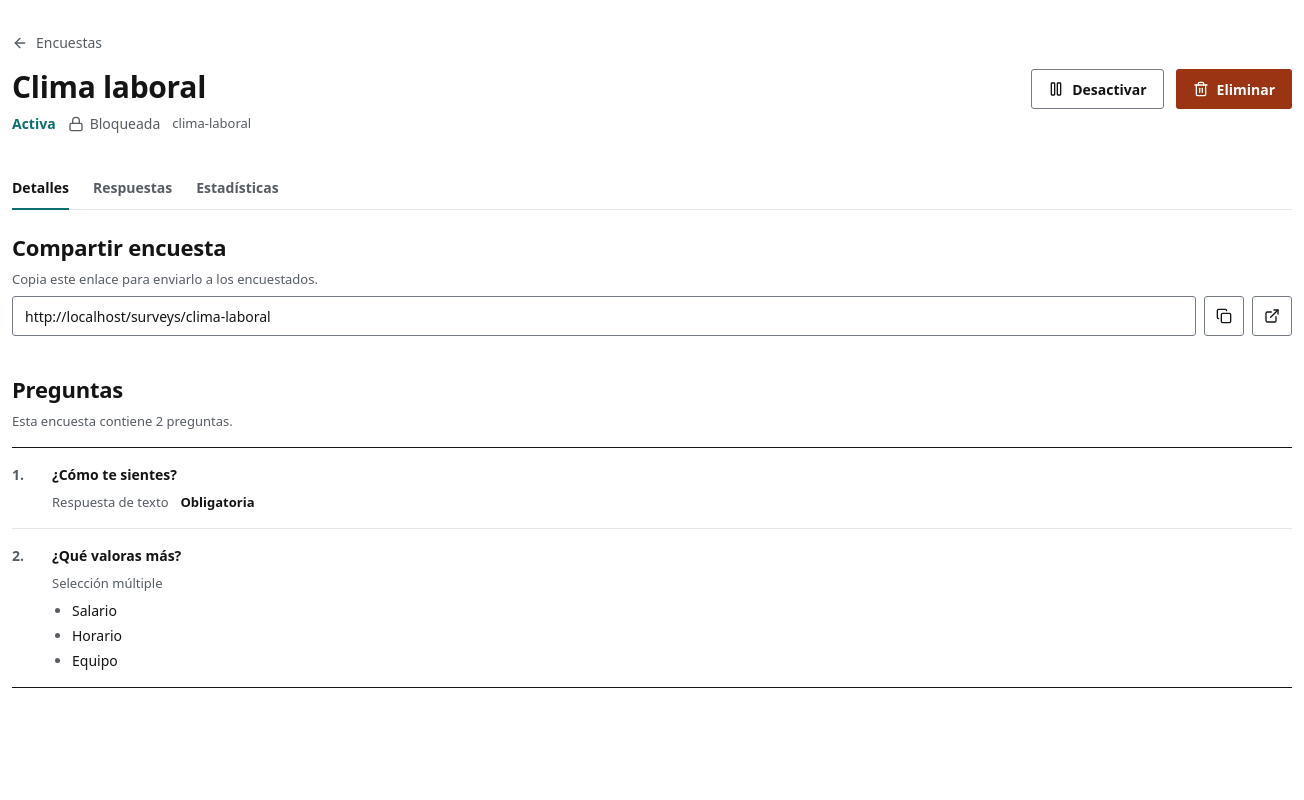
SurveyDetailsPage tabs (REQ-FE-022, REQ-FE-020) › AC-FE-022-4: 'Estadísticas' shows the summary line, the completion bar and the small multiples, no cards
Step 1. Click the tab "Estadísticas" → (237, 188), box [196,166,279,210]
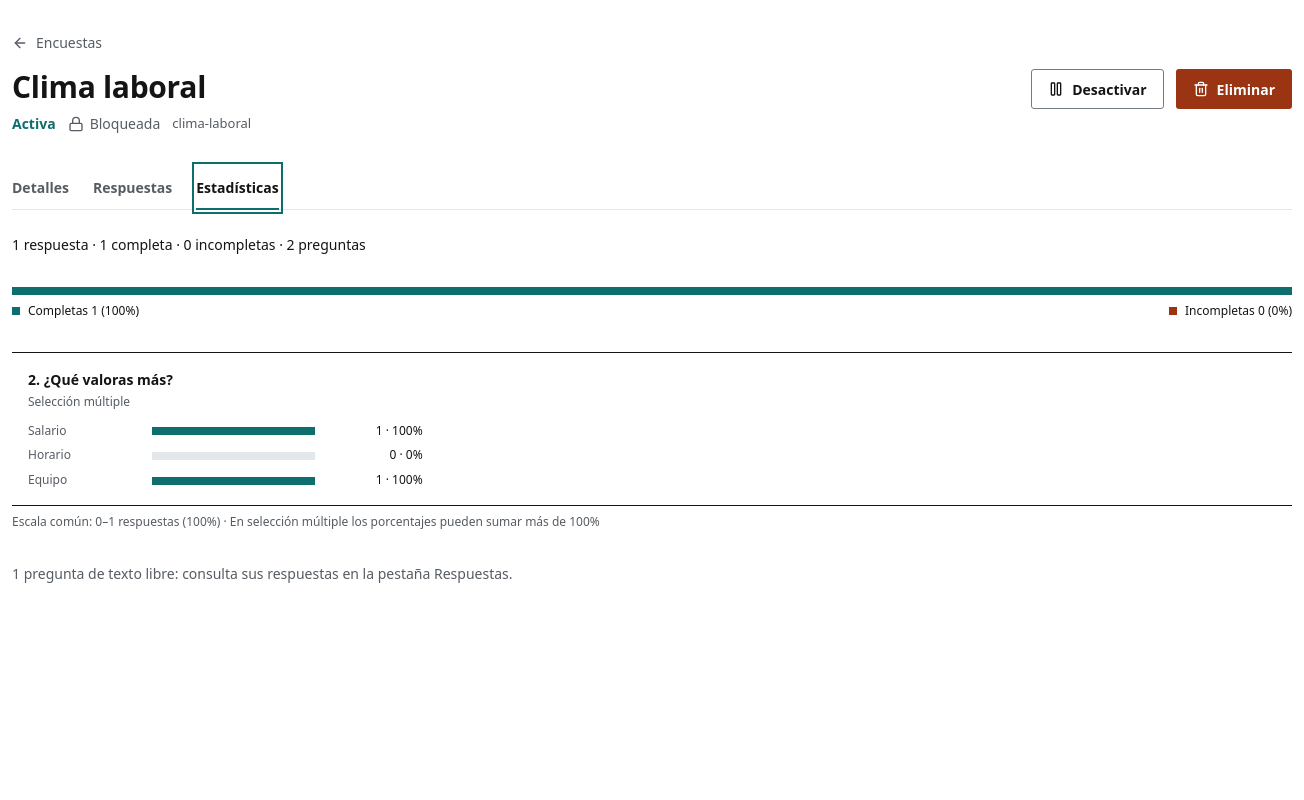
Expected: the text "1 respuesta · 1 completa · 0 incompletas · 2 preguntas" is shown, [12,235,366,254]
Expected: the element named "Respuestas por pregunta" is shown, [12,352,1292,531]
